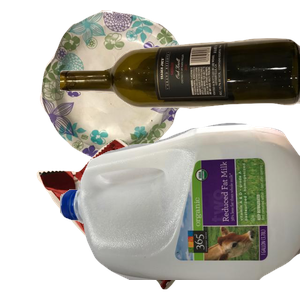glass: (60, 36, 300, 147)
paper: (37, 10, 219, 167)
plastic: (60, 120, 300, 300)
trash: (34, 136, 253, 300)
